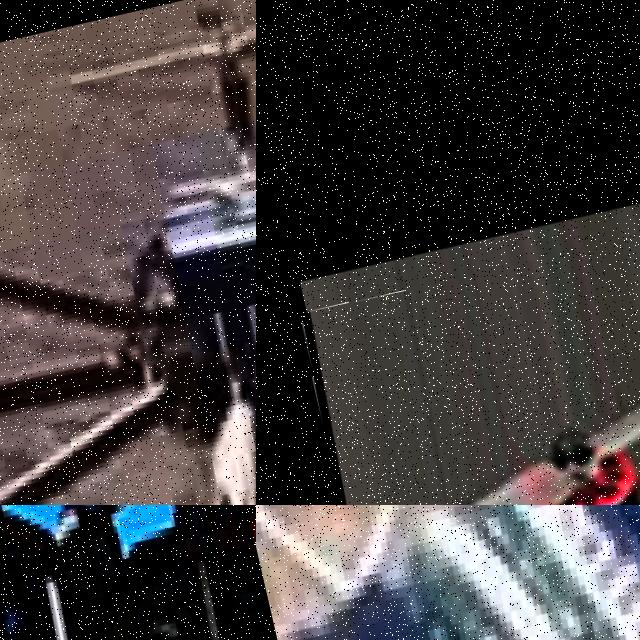drone: (0, 0, 256, 505), (296, 189, 640, 505), (256, 505, 640, 640), (0, 505, 256, 640)
